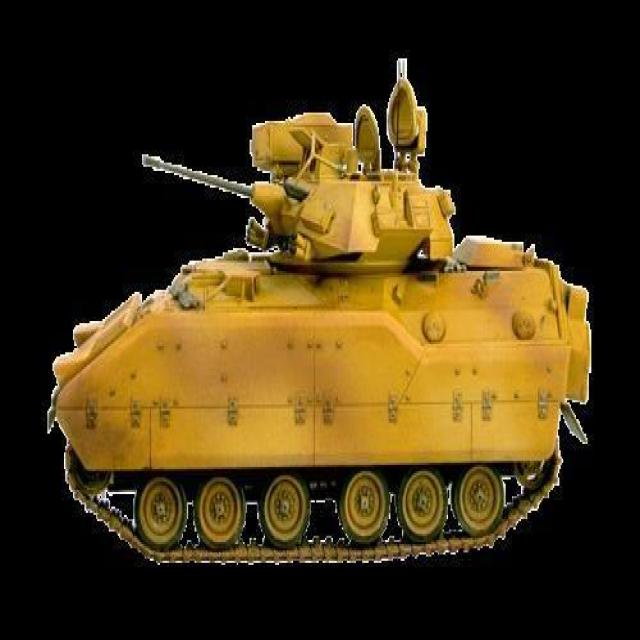Tanks: (38, 46, 608, 609)
